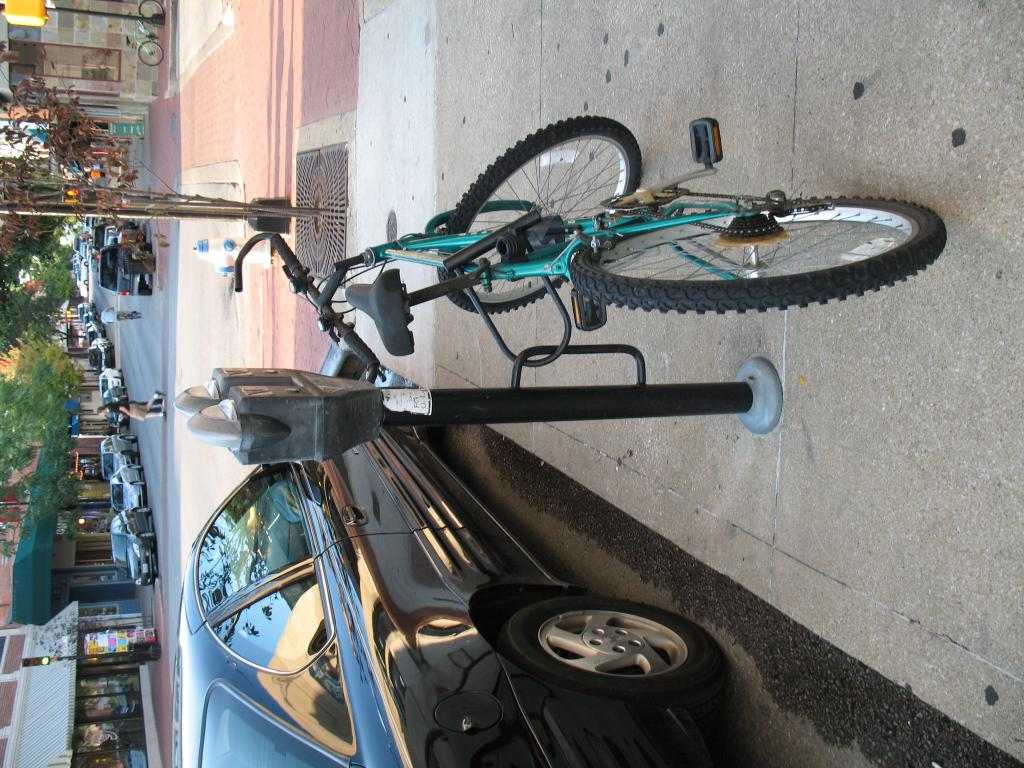Bicycle: (318, 77, 1004, 346), (125, 0, 165, 71), (114, 313, 142, 321)
